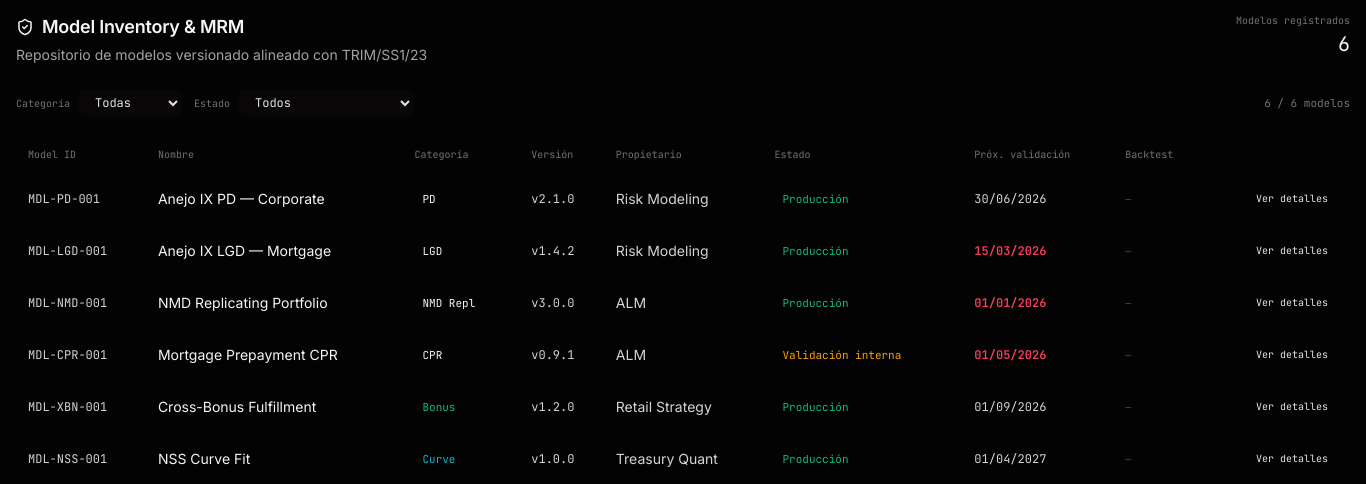
Test case: ModelInventoryPanel › filters the inventory by status
Select "Validación interna" in the dropdown labelled "Estado" at (326,103), box 238,89 -> 414,117
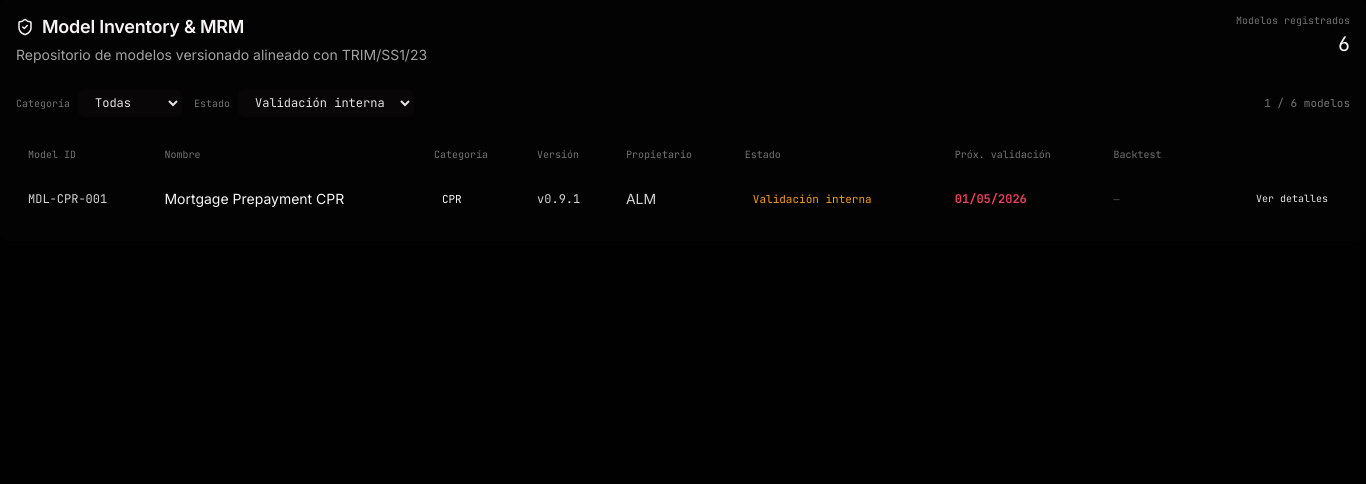
Expected: the text "Mortgage Prepayment CPR" is shown, 152,173 -> 422,225
Expected: the text "Anejo IX PD — Corporate" is gone
Expected: the text "1 / 6 modelos" is shown, 1264,95 -> 1350,111
